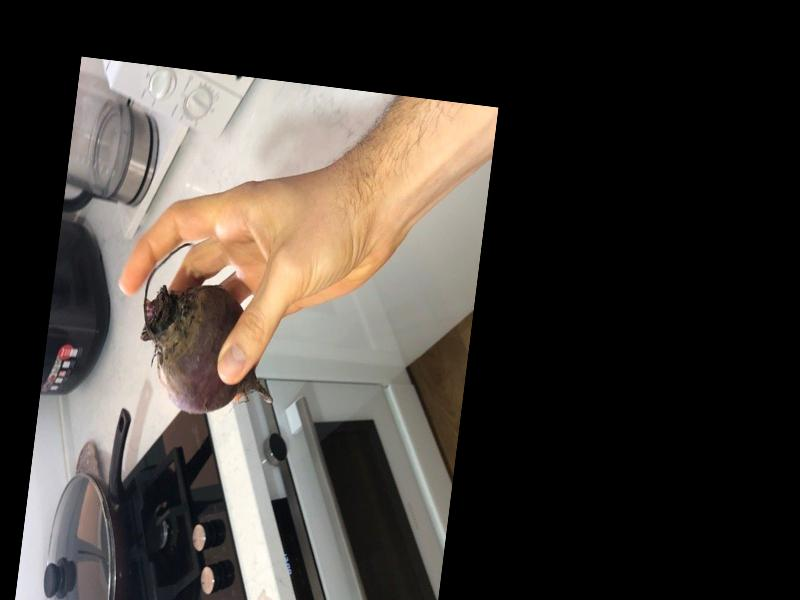Beet: (131, 240, 290, 422)
